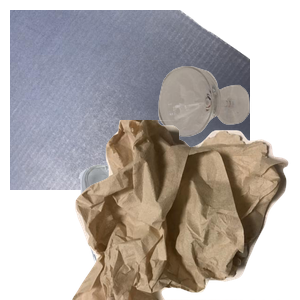cardboard: (10, 10, 250, 190)
glass: (156, 64, 300, 194)
plastic: (76, 151, 270, 300)
trash: (70, 120, 300, 300)
